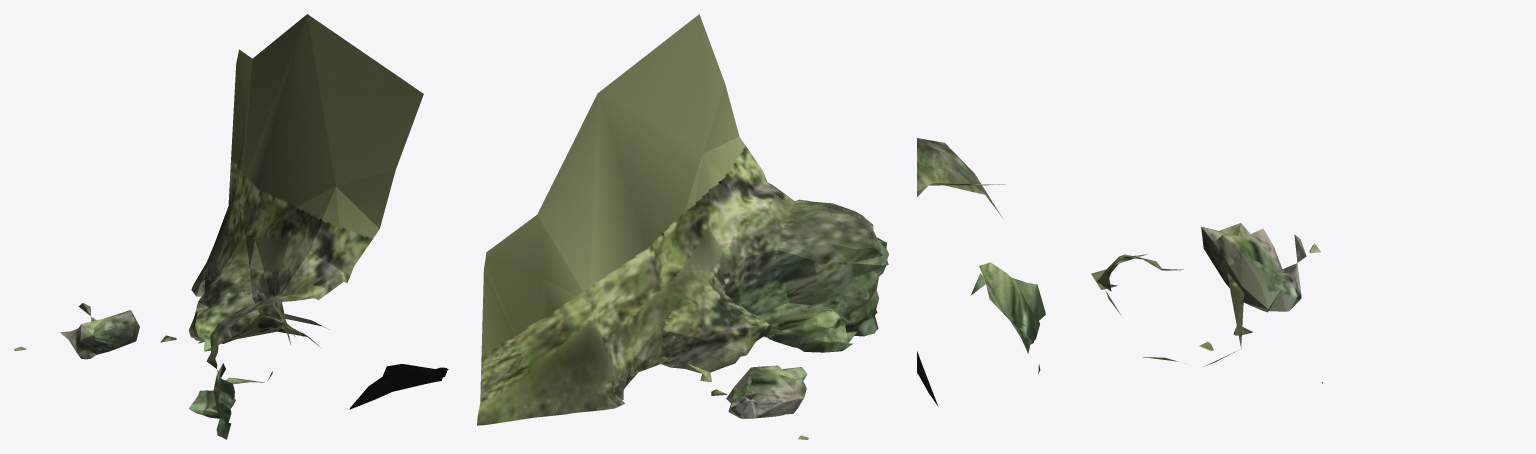
3 renders of one model, left to right at view 1: azimuth 30°, elevation 25°; view 2: azimuth 150°, elevation 25°; view 3: azimuth 270°, elevation 25°, orthographic. The views are drawn at different scales.
Size of the model in its own units: 17.75 by 17.47 by 23.38.
2 materials, 2 textured.
